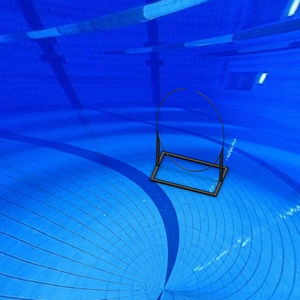circle: (149, 87, 231, 200)
